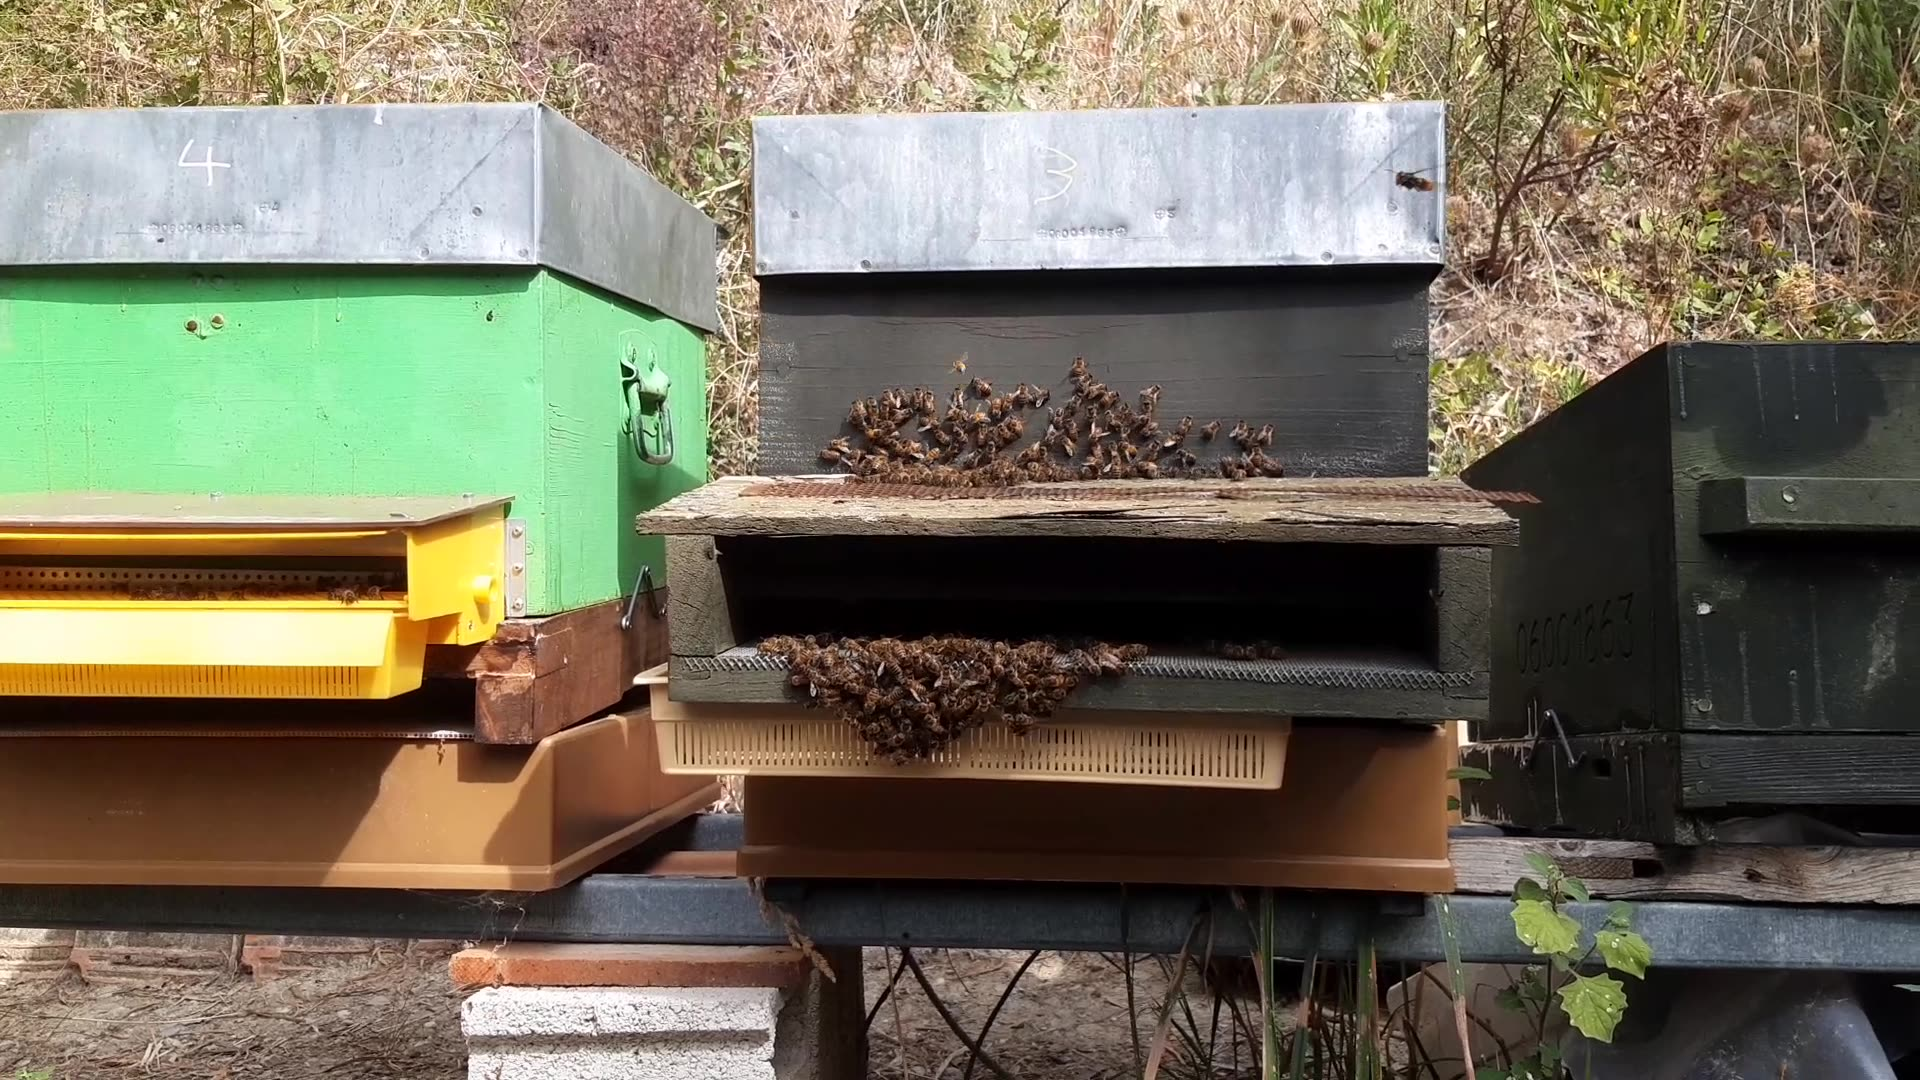bee: (865, 688, 931, 766), (1026, 634, 1127, 679), (746, 638, 825, 690), (1196, 425, 1269, 475), (841, 407, 910, 458), (1126, 415, 1197, 460), (832, 440, 889, 488), (1063, 378, 1124, 421), (957, 385, 1011, 425)
